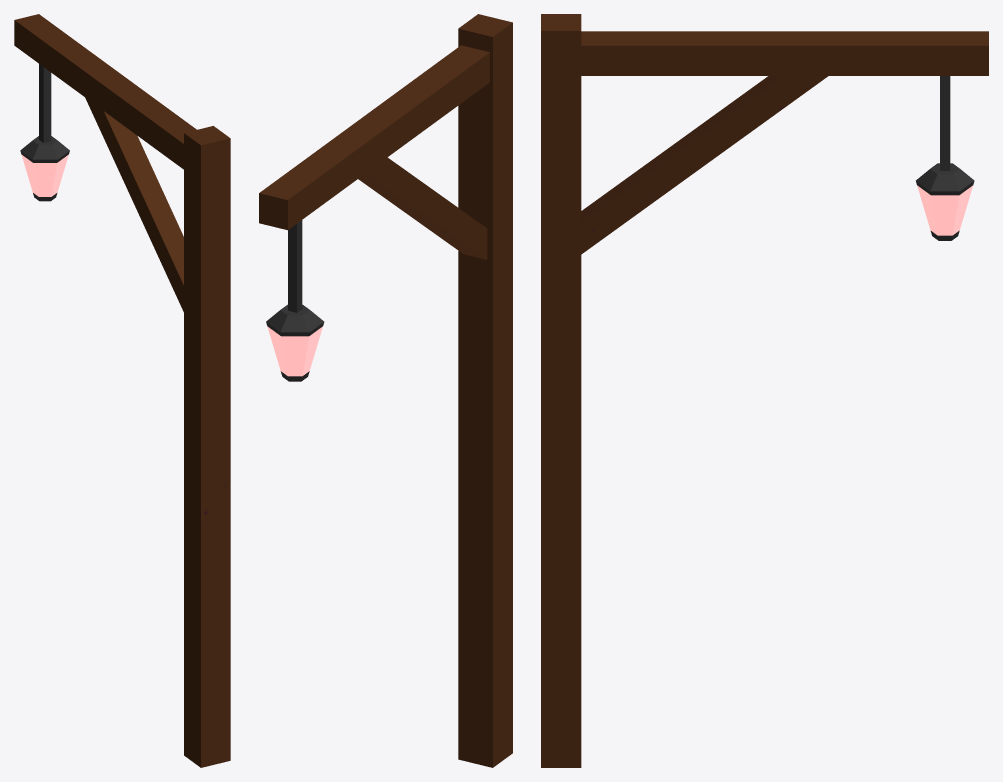
Rendered from Pole.fbx.
The picture shows the model from 3 angles, left to right: view 1: azimuth 30°, elevation 25°; view 2: azimuth 150°, elevation 25°; view 3: azimuth 270°, elevation 25°; orthographic projection. The views are drawn at different scales.
Parts seen in each view (by area): view 1: Pole; view 2: Pole; view 3: Pole.
Boxes of the visible parts, box(x1,y1,x2,y2) form: Pole: box(14, 14, 230, 767); Pole: box(259, 14, 512, 767); Pole: box(541, 14, 988, 767).
Size of the model in its own units: 0.1532 by 2.44 by 1.34.
